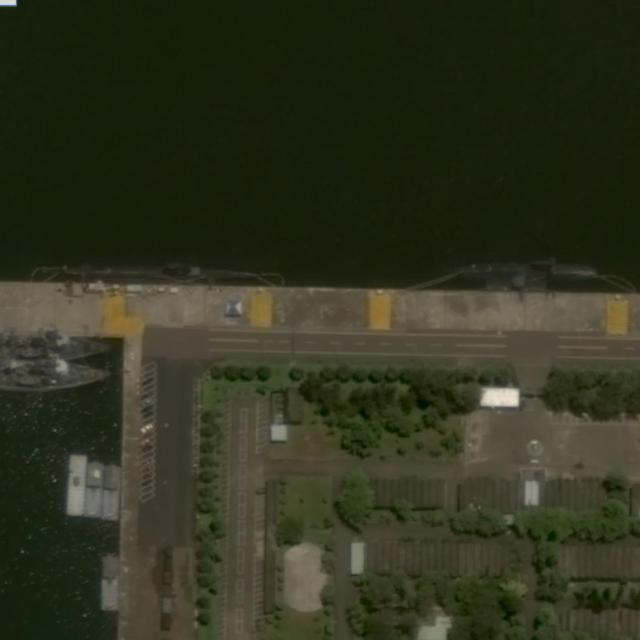Submarine: (32, 263, 256, 281), (456, 262, 599, 281)
